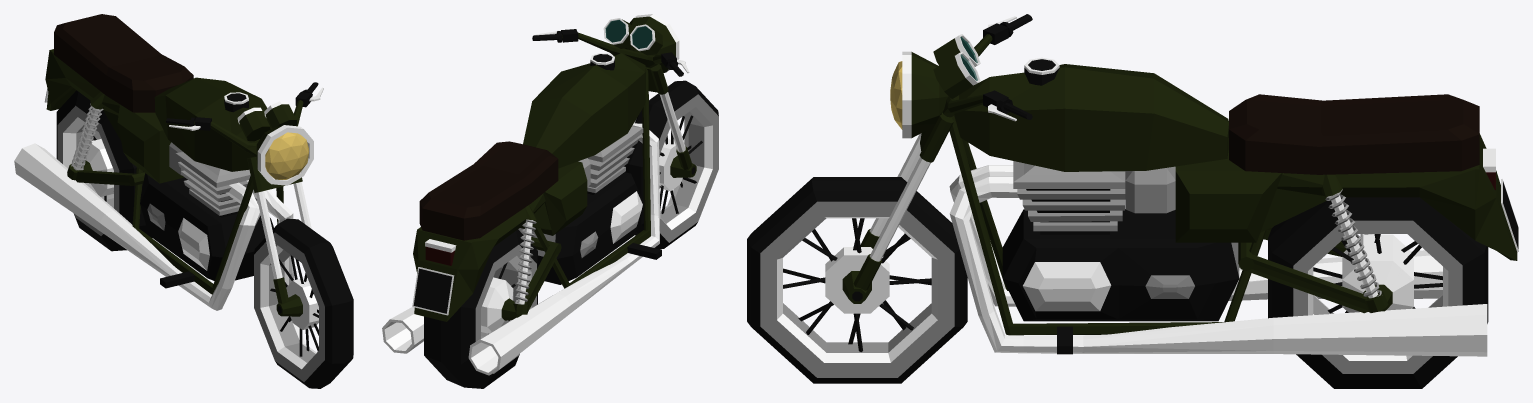
File: Motorbike_01.FBX
3 renders of one model, left to right at view 1: azimuth 30°, elevation 25°; view 2: azimuth 150°, elevation 25°; view 3: azimuth 270°, elevation 25°, orthographic. The views are drawn at different scales.
Visible parts, largest first — view 1: Motorbike_01, wheel_f, motor, exhausts, seat, wheel_b, steering, headLight, light_f; view 2: Motorbike_01, seat, wheel_f, exhausts, wheel_b, motor, steering, light_f, tailLight; view 3: Motorbike_01, motor, wheel_f, exhausts, wheel_b, seat, steering, light_f, headLight.
Part boxes in pixels (<box>): Motorbike_01: <box>44,49,283,294</box>; wheel_f: <box>254,218,353,388</box>; motor: <box>140,142,273,280</box>; exhausts: <box>14,143,294,310</box>; seat: <box>54,14,193,112</box>; wheel_b: <box>56,90,151,251</box>; steering: <box>166,82,323,303</box>; headLight: <box>265,132,309,179</box>; light_f: <box>256,125,313,185</box>; Motorbike_01: <box>412,53,661,321</box>; seat: <box>419,141,558,240</box>; wheel_f: <box>624,80,718,249</box>; exhausts: <box>382,123,660,375</box>; wheel_b: <box>424,229,537,388</box>; motor: <box>518,125,643,284</box>; steering: <box>532,18,692,169</box>; light_f: <box>624,14,679,72</box>; tailLight: <box>425,246,454,265</box>; Motorbike_01: <box>949,57,1518,354</box>; motor: <box>1002,161,1239,321</box>; wheel_f: <box>747,177,967,383</box>; exhausts: <box>949,165,1487,356</box>; wheel_b: <box>1268,197,1488,388</box>; seat: <box>1229,94,1479,174</box>; steering: <box>853,14,1032,290</box>; light_f: <box>902,51,948,138</box>; headLight: <box>890,61,902,129</box>.
Size of the model in its own units: 8.16 by 12.34 by 25.69.
